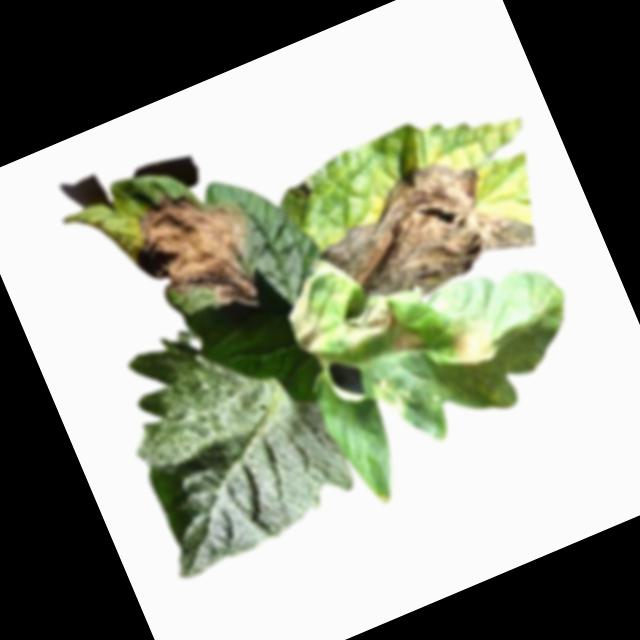Late_blight: (301, 131, 543, 327), (112, 161, 283, 343), (275, 276, 338, 362), (334, 293, 406, 355), (443, 309, 505, 374), (364, 370, 413, 421), (387, 320, 428, 362)
healthy: (91, 292, 365, 584)
